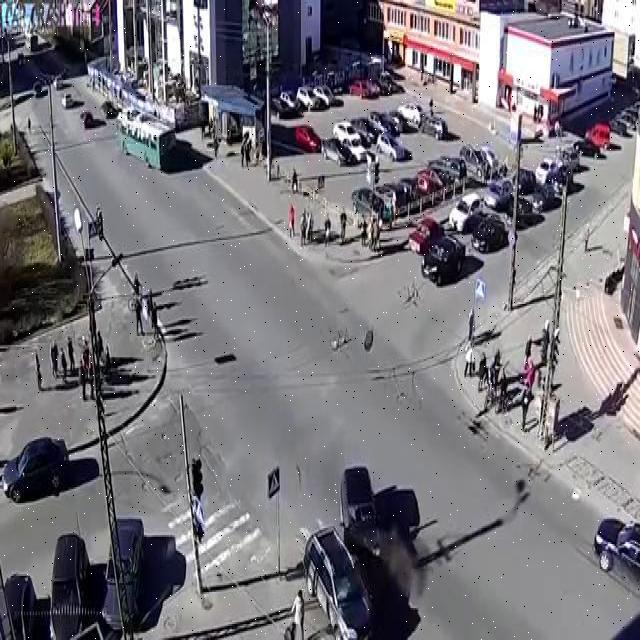moderate: (300, 460, 385, 640)
